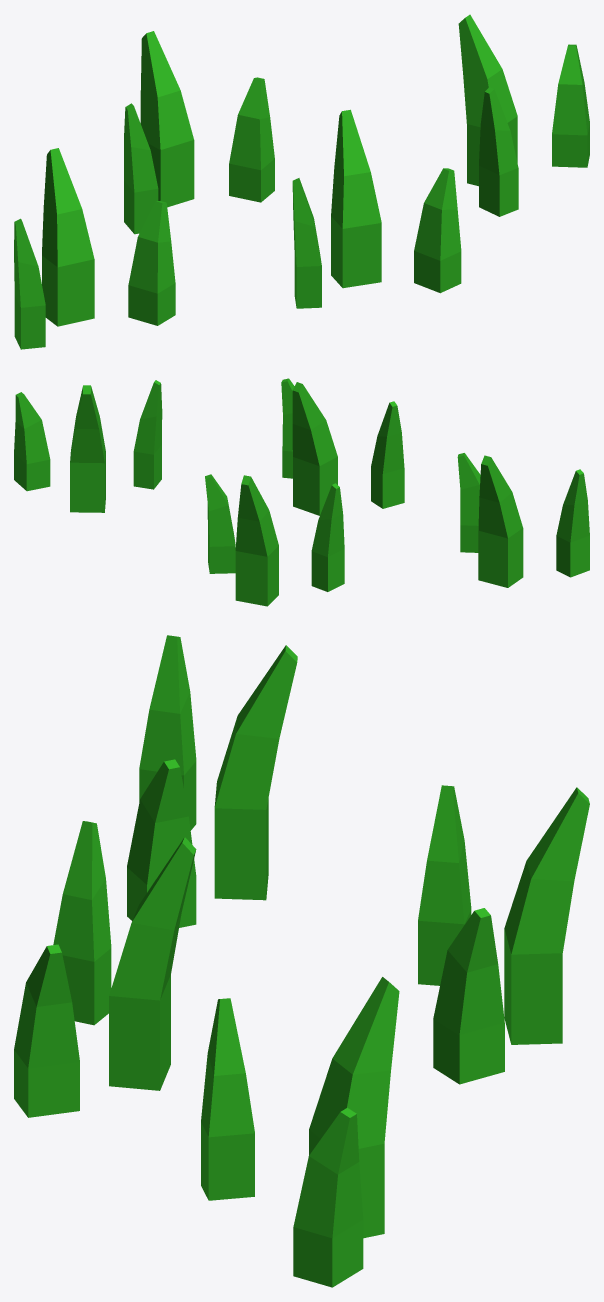
File: Grass.fbx
3 views of the same model, one above another, from view 1: azimuth 30°, elevation 25°; view 2: azimuth 150°, elevation 25°; view 3: azimuth 270°, elevation 25° (orthographic). The views are drawn at different scales.
Parts seen in each view (by area): view 1: Cube.004; view 2: Cube.004; view 3: Cube.004.
Part boxes in pixels (box(x1,y1,x2,y2)): Cube.004: box(14, 14, 589, 349); Cube.004: box(14, 378, 589, 606); Cube.004: box(14, 635, 589, 1287).
Size of the model in its own units: 240 by 57.38 by 125.
